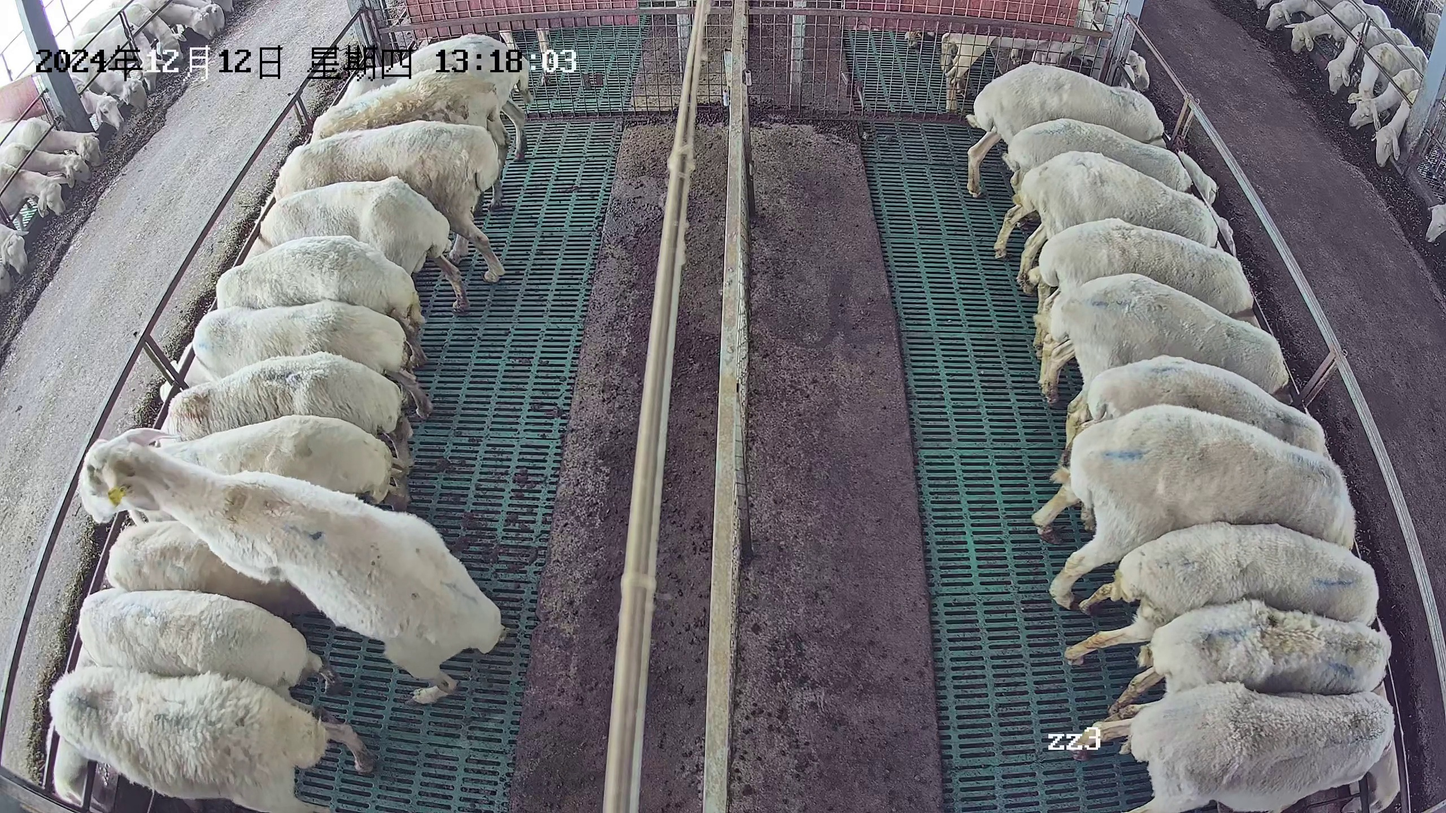Nmounting: (79, 426, 506, 702)
